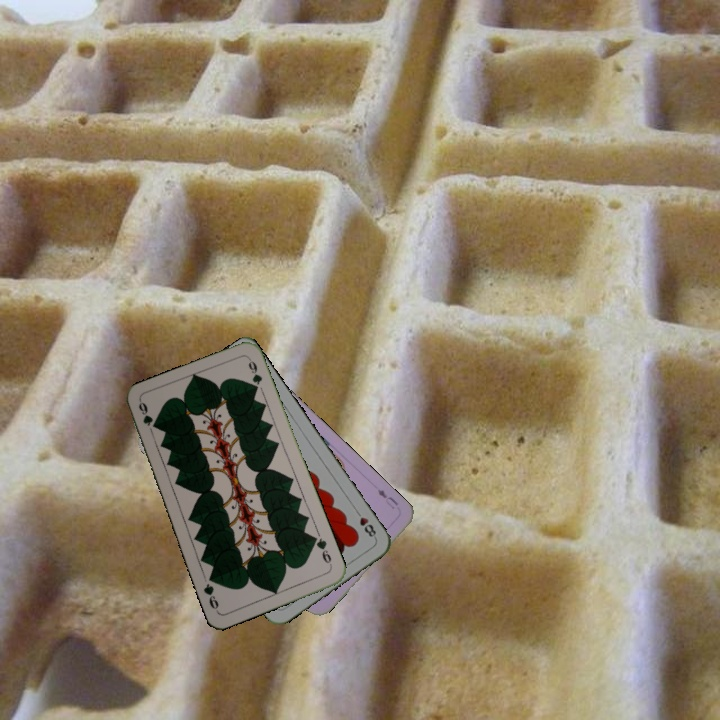EU: (373, 485, 401, 511)
G9: (309, 532, 335, 570), (134, 398, 154, 429)
H8: (351, 506, 379, 542)
